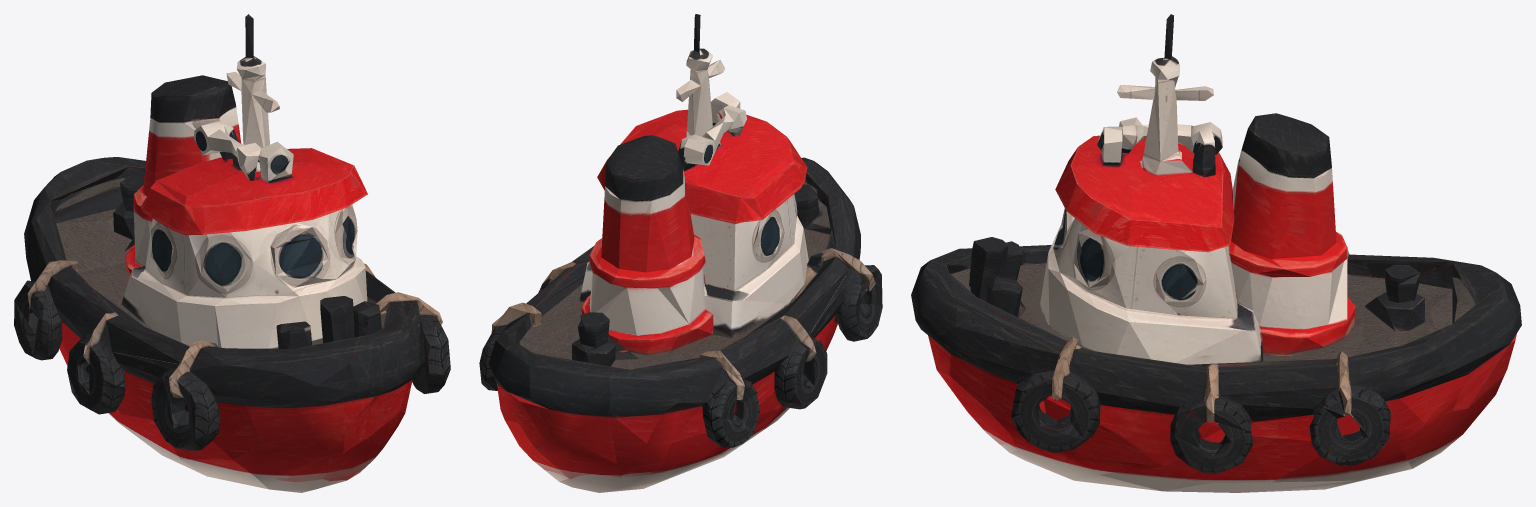
The model's file is rc-boat.glb.
3 renders of one model, left to right at view 1: azimuth 30°, elevation 25°; view 2: azimuth 150°, elevation 25°; view 3: azimuth 270°, elevation 25°, orthographic. The views are drawn at different scales.
Size of the model in its own units: 0.3452 by 0.48 by 0.6002.
Materials: 1 (1 with a texture image).
